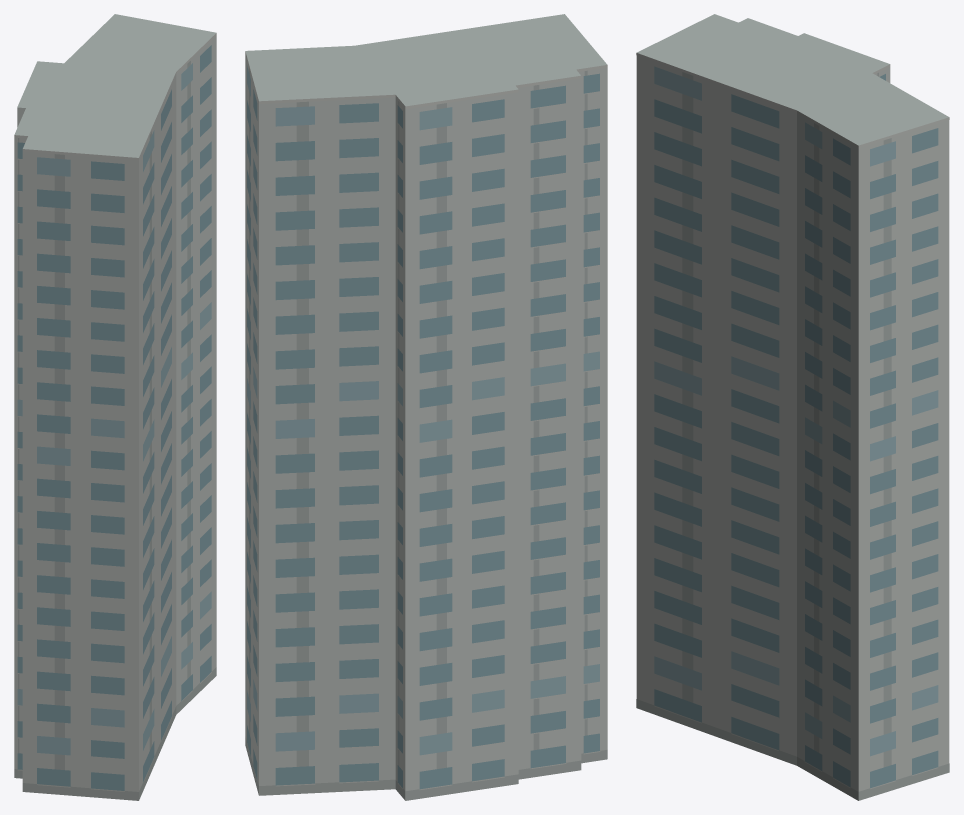
File: residential-413113fe-269e-444b-849e-811ffaae85fa.glb
3 views of the same model, side by side, from view 1: azimuth 30°, elevation 25°; view 2: azimuth 150°, elevation 25°; view 3: azimuth 270°, elevation 25° (orthographic). The views are drawn at different scales.
Visible parts, largest first — view 1: residential-413113fe-269e-444b-849e-811ffaae85fa.tmp; view 2: residential-413113fe-269e-444b-849e-811ffaae85fa.tmp; view 3: residential-413113fe-269e-444b-849e-811ffaae85fa.tmp.
Boxes of the visible parts, x1,y1,x2,y2 form: residential-413113fe-269e-444b-849e-811ffaae85fa.tmp: (14,14,216,800); residential-413113fe-269e-444b-849e-811ffaae85fa.tmp: (245,14,607,800); residential-413113fe-269e-444b-849e-811ffaae85fa.tmp: (636,14,949,800).
Bounding box in the file's own units: 25.85 × 60 × 25.98.
